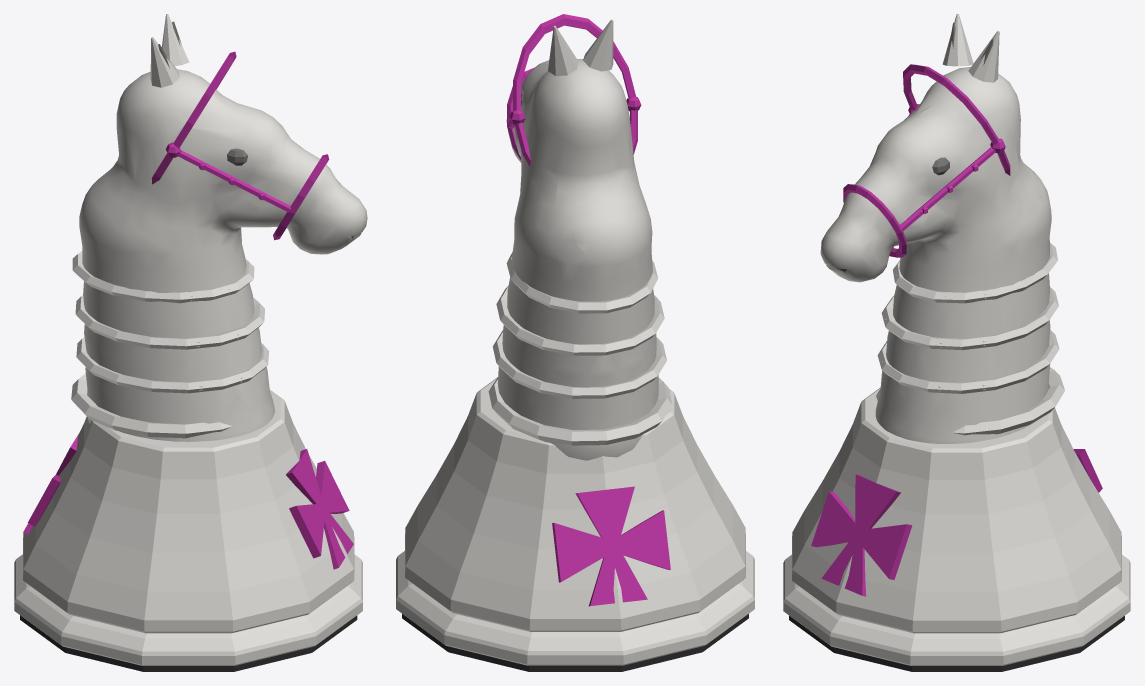
File: knight_white.glb
3 renders of one model, left to right at view 1: azimuth 30°, elevation 25°; view 2: azimuth 150°, elevation 25°; view 3: azimuth 270°, elevation 25°, orthographic. The views are drawn at different scales.
Visible parts, largest first — view 1: Knight_White; view 2: Knight_White; view 3: Knight_White.
Boxes of the visible parts, x1,y1,x2,y2 form: Knight_White: [14, 14, 367, 671]; Knight_White: [396, 14, 754, 671]; Knight_White: [783, 14, 1130, 671].
Size of the model in its own units: 1.2 by 2.17 by 1.2.
